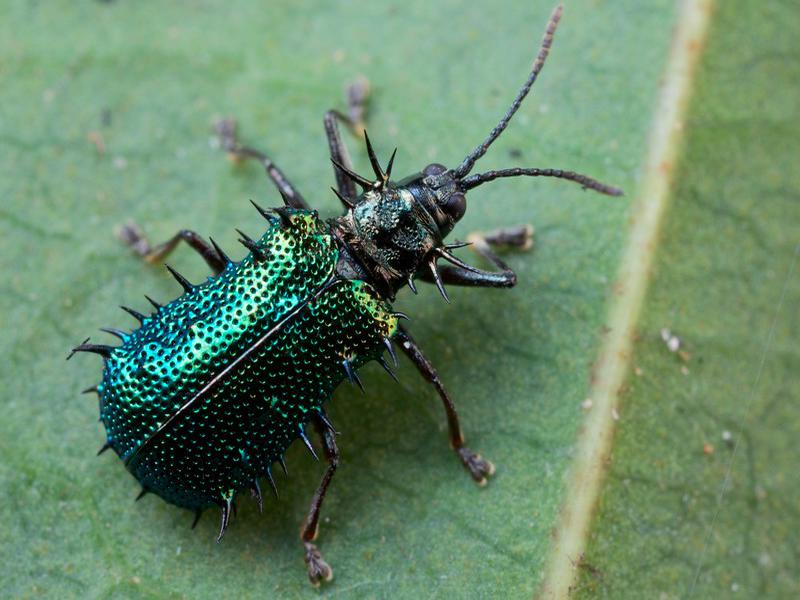Spiny_beetle: (51, 126, 514, 521)
